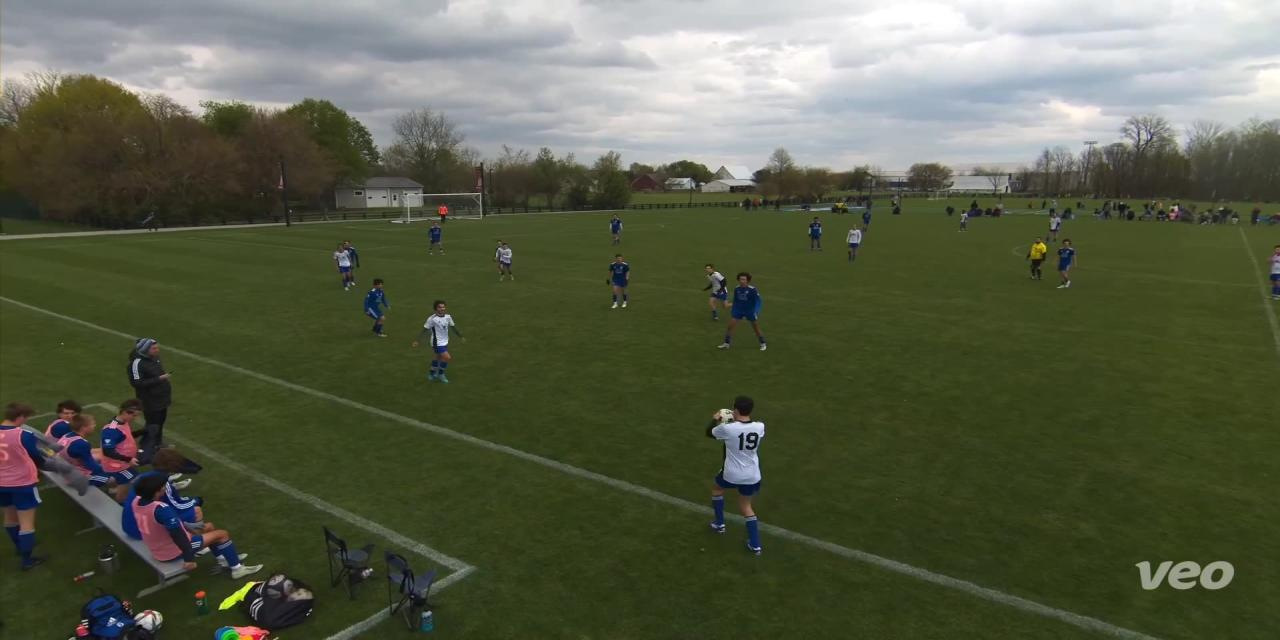goal: (384, 186, 496, 228)
sports ball: (701, 404, 742, 427)
